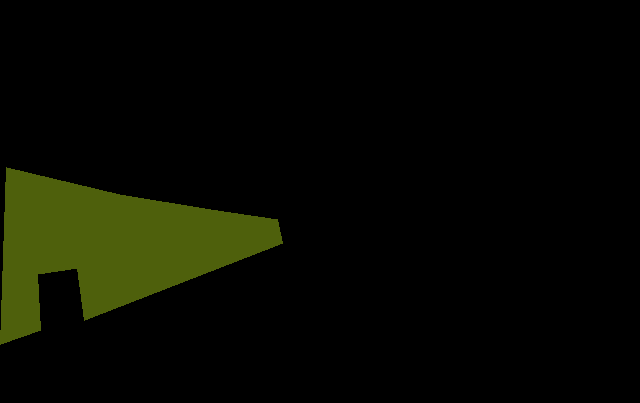Train: (0, 167, 282, 345)
